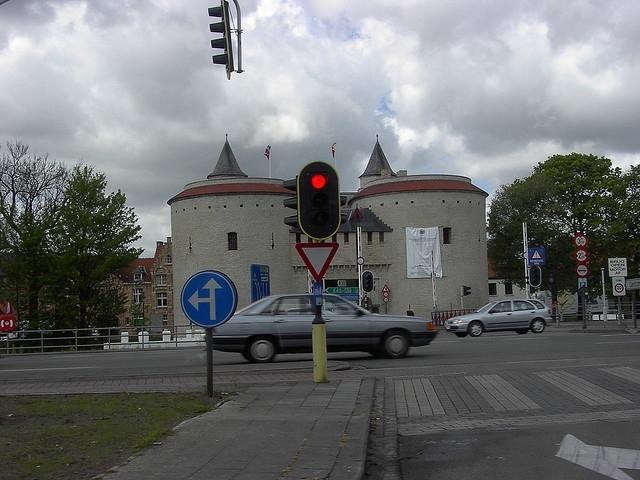car: (213, 293, 438, 364), (444, 300, 552, 338)
